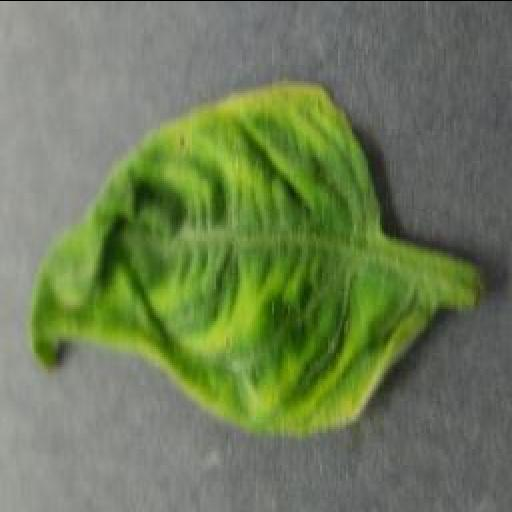disease_tomato: (27, 80, 437, 430)
